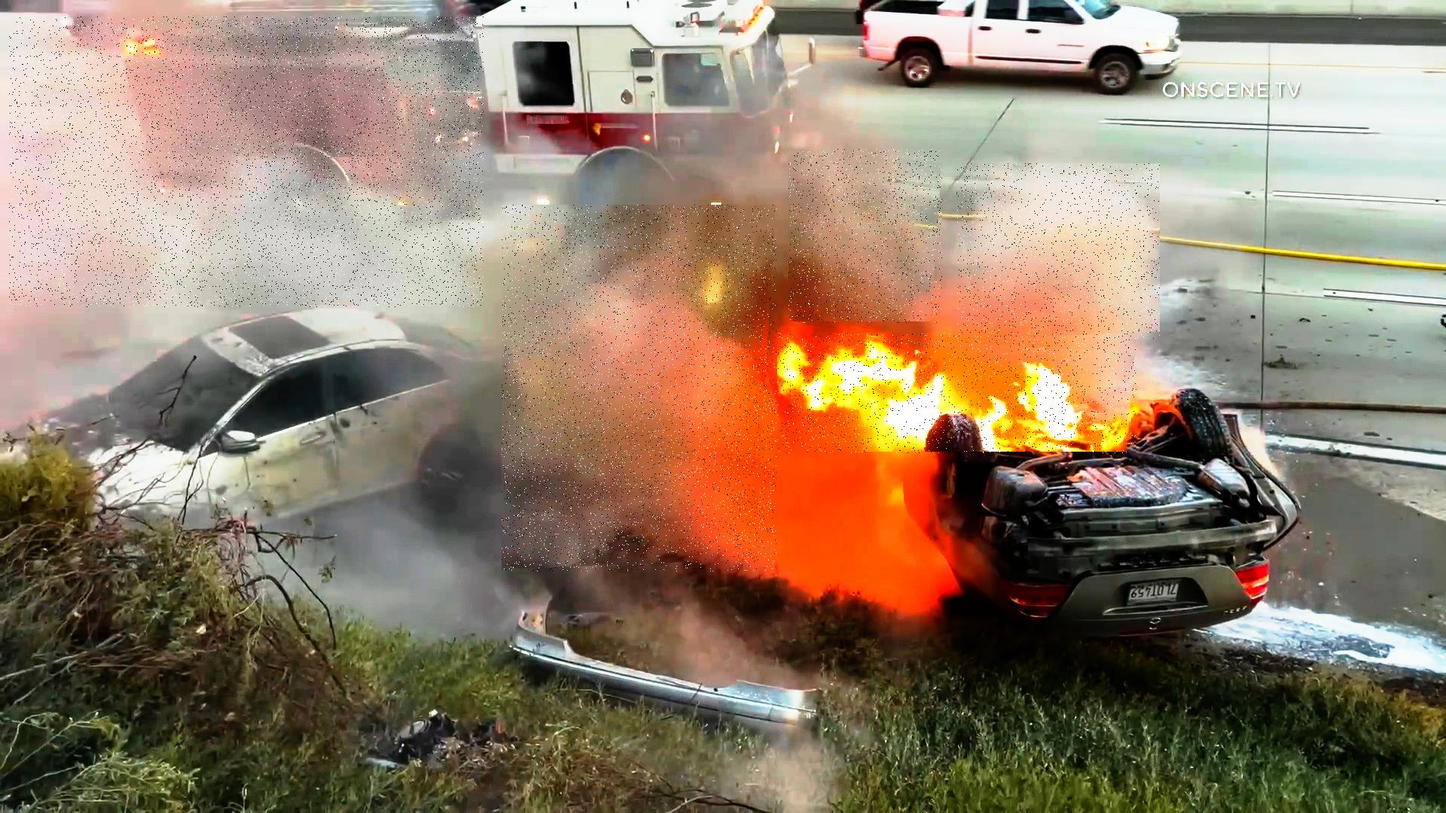fire: (778, 333, 1137, 454)
smoke: (10, 17, 484, 308), (502, 205, 777, 572), (956, 163, 1160, 339), (789, 150, 942, 324)
